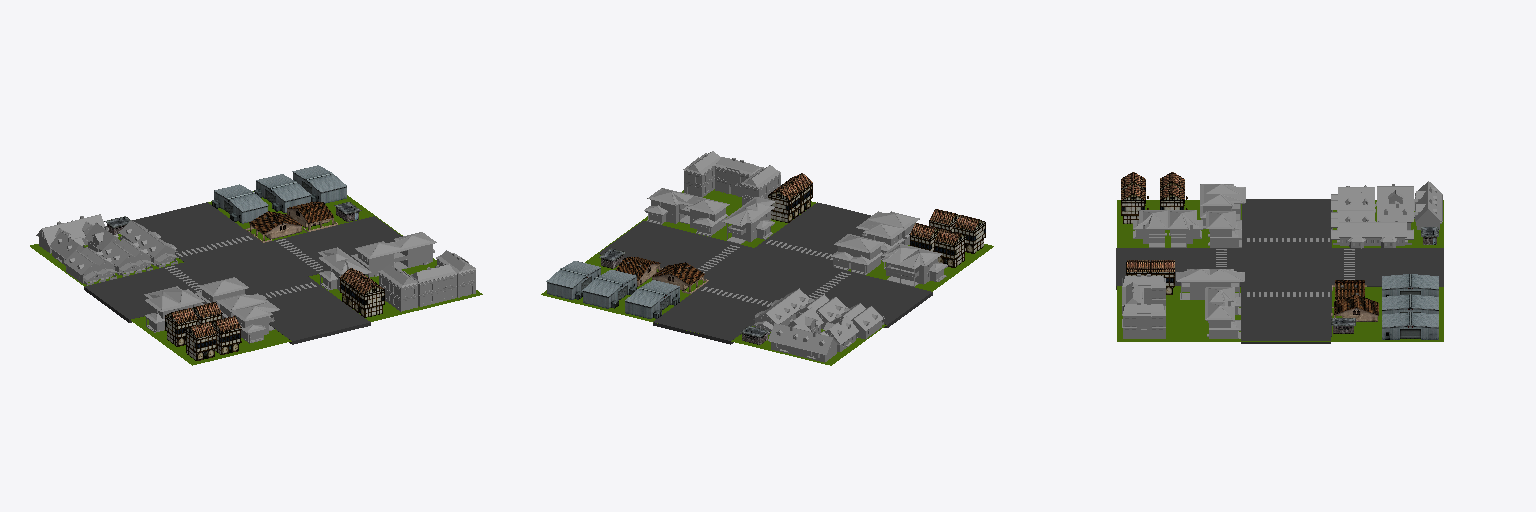
The picture shows the model from 3 angles: view 1: azimuth 30°, elevation 25°; view 2: azimuth 150°, elevation 25°; view 3: azimuth 270°, elevation 25°; orthographic projection.
Parts seen in each view (by area): view 1: Line002, Plane001, City_building_026, City_building_022, City_building_007, City_building_038, City_building_016, City_building_011, City_building_023, City_building_004, City_building_010, City_building_014 (+15 smaller); view 2: Line002, Plane001, City_building_026, City_building_038, City_building_033, City_building_034, City_building_037, City_building_022, City_building_007, City_building_011, City_building_023, City_building_014 (+13 smaller); view 3: Line002, Plane001, City_building_022, City_building_014, City_building_026, City_building_017, City_building_023, City_building_034, City_building_038, City_building_037, City_building_007, City_building_033 (+12 smaller).
Part boxes in pixels (x1,y1,x2,y2): Line002: (84,202,402,344); Plane001: (30,191,482,365); City_building_026: (351,232,436,277); City_building_022: (216,293,279,343); City_building_007: (212,184,268,223); City_building_038: (144,286,204,332); City_building_016: (410,264,456,306); City_building_011: (254,174,310,212); City_building_023: (292,165,346,203); City_building_004: (64,247,118,285); City_building_010: (378,264,418,311); City_building_014: (118,220,178,267); Line002: (598,202,932,344); Plane001: (541,189,993,365); City_building_026: (644,188,729,236); City_building_038: (882,243,947,286); City_building_033: (768,323,839,362); City_building_034: (722,197,774,244); City_building_037: (831,234,884,274); City_building_022: (856,211,919,259); City_building_007: (625,280,679,318); City_building_011: (582,270,636,308); City_building_023: (546,261,600,299); City_building_014: (752,288,810,334); Line002: (1116,199,1443,343); Plane001: (1117,200,1443,341); City_building_022: (1133,210,1202,247); City_building_014: (1331,221,1413,248); City_building_026: (1205,287,1240,338); City_building_017: (1122,303,1165,338); City_building_023: (1382,312,1438,339); City_building_034: (1176,269,1244,299); City_building_038: (1200,184,1245,228); City_building_037: (1206,211,1241,247); City_building_007: (1382,274,1438,296); City_building_033: (1414,181,1442,229).
Bounding box in the file's own units: 96.86 × 11.25 × 94.37.
Materials: 11 (4 with a texture image).